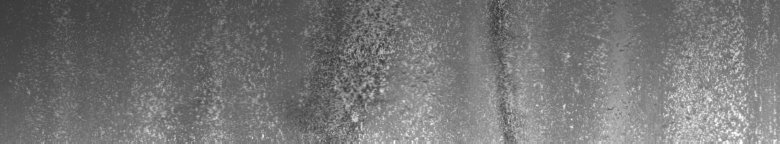hc: (325, 9, 399, 136)
